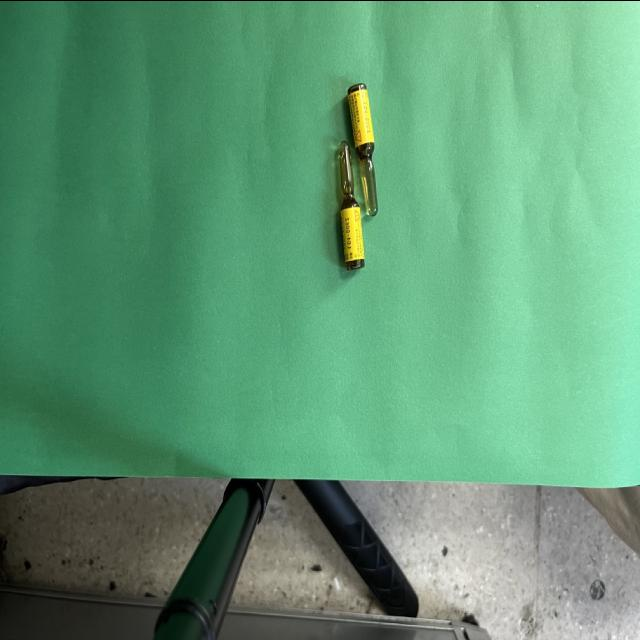Ampoules: (347, 82, 378, 216), (338, 139, 364, 269)
